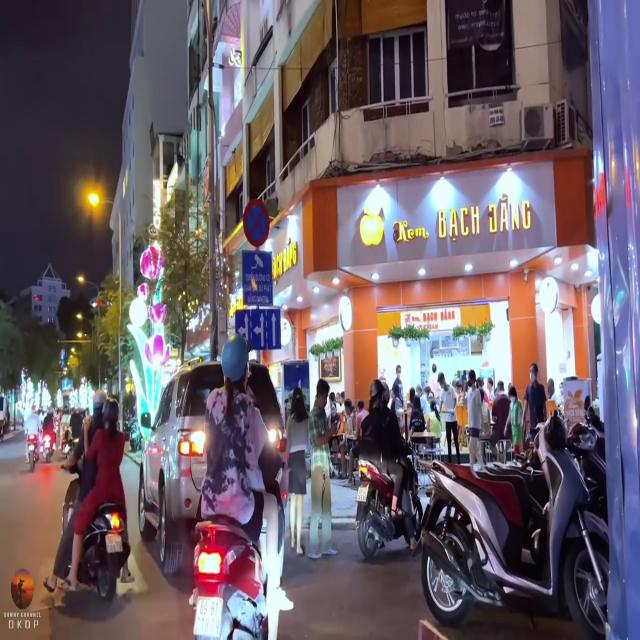bien_trang: (191, 595, 222, 633)
